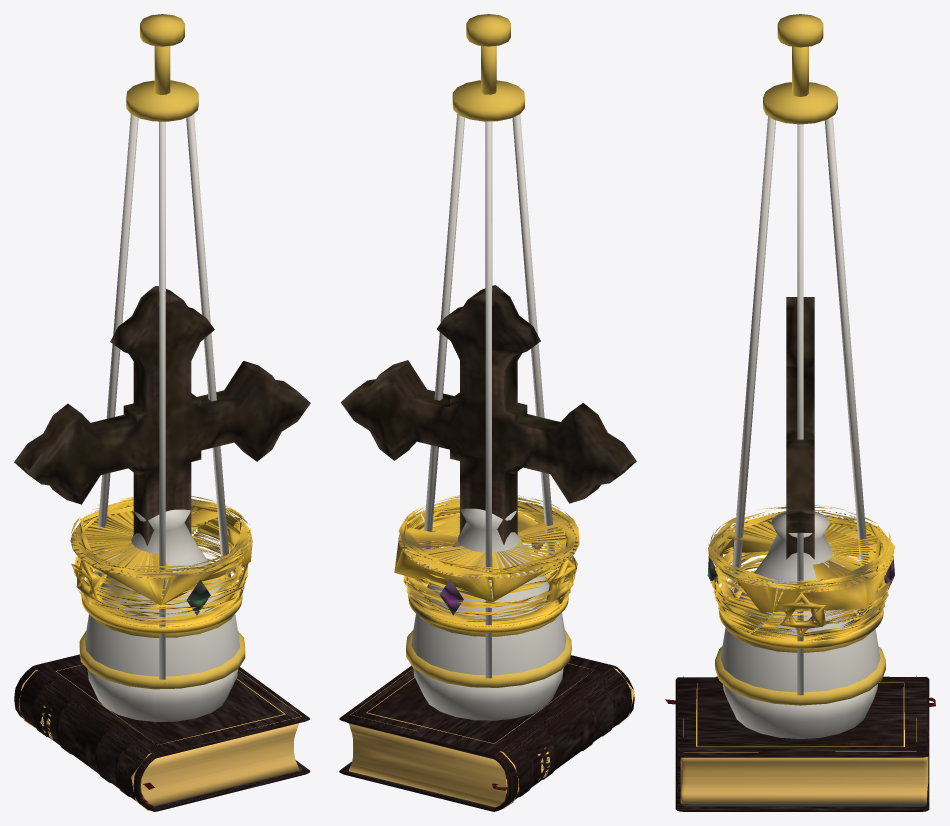
Rendered from items.glb.
The picture shows the model from 3 angles, left to right: view 1: azimuth 30°, elevation 25°; view 2: azimuth 150°, elevation 25°; view 3: azimuth 270°, elevation 25°; orthographic projection. The views are drawn at different scales.
Visible parts, largest first — view 1: item_turibolo, item_croce, item_bibbia, item_calice; view 2: item_turibolo, item_croce, item_bibbia, item_calice; view 3: item_turibolo, item_bibbia, item_calice, item_croce.
Part boxes in pixels (x1,y1,x2,y2): item_turibolo: (79, 14, 245, 721); item_croce: (14, 286, 310, 545); item_bibbia: (14, 654, 310, 811); item_calice: (70, 496, 252, 633); item_turibolo: (406, 14, 571, 720); item_croce: (341, 285, 636, 544); item_bibbia: (339, 655, 634, 811); item_calice: (394, 495, 580, 632); item_turibolo: (715, 14, 885, 738); item_bibbia: (665, 675, 935, 811); item_calice: (707, 505, 895, 648); item_croce: (786, 297, 814, 559).
Bounding box in the file's own units: 0.3213 × 0.807 × 0.26.
21 materials, 12 textured.
